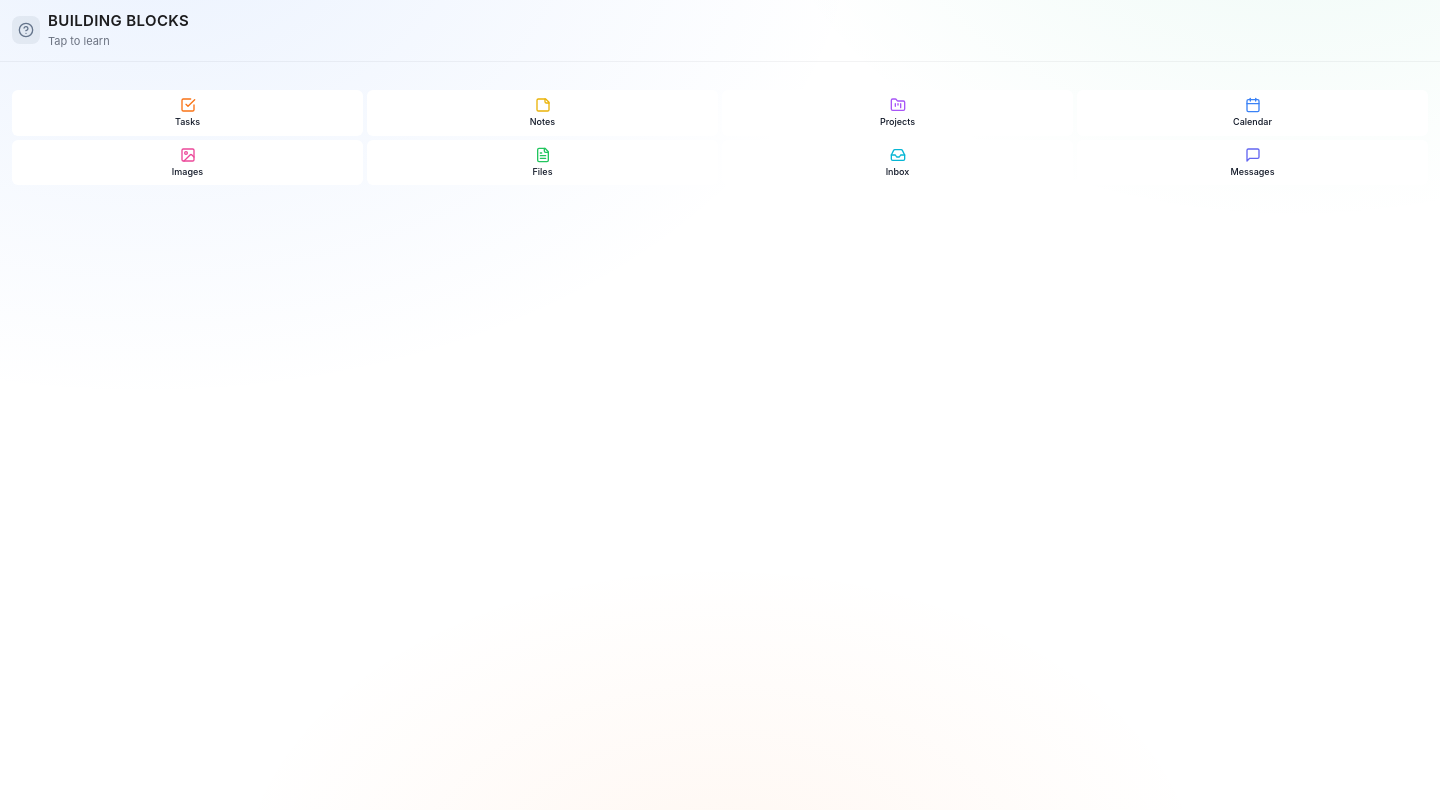
it: FeatureGuideWidget › Feature Selection › shows feature description when feature is clicked
Click the button "Tasks": coordinates (188, 113) x1=12 y1=90 x2=363 y2=136
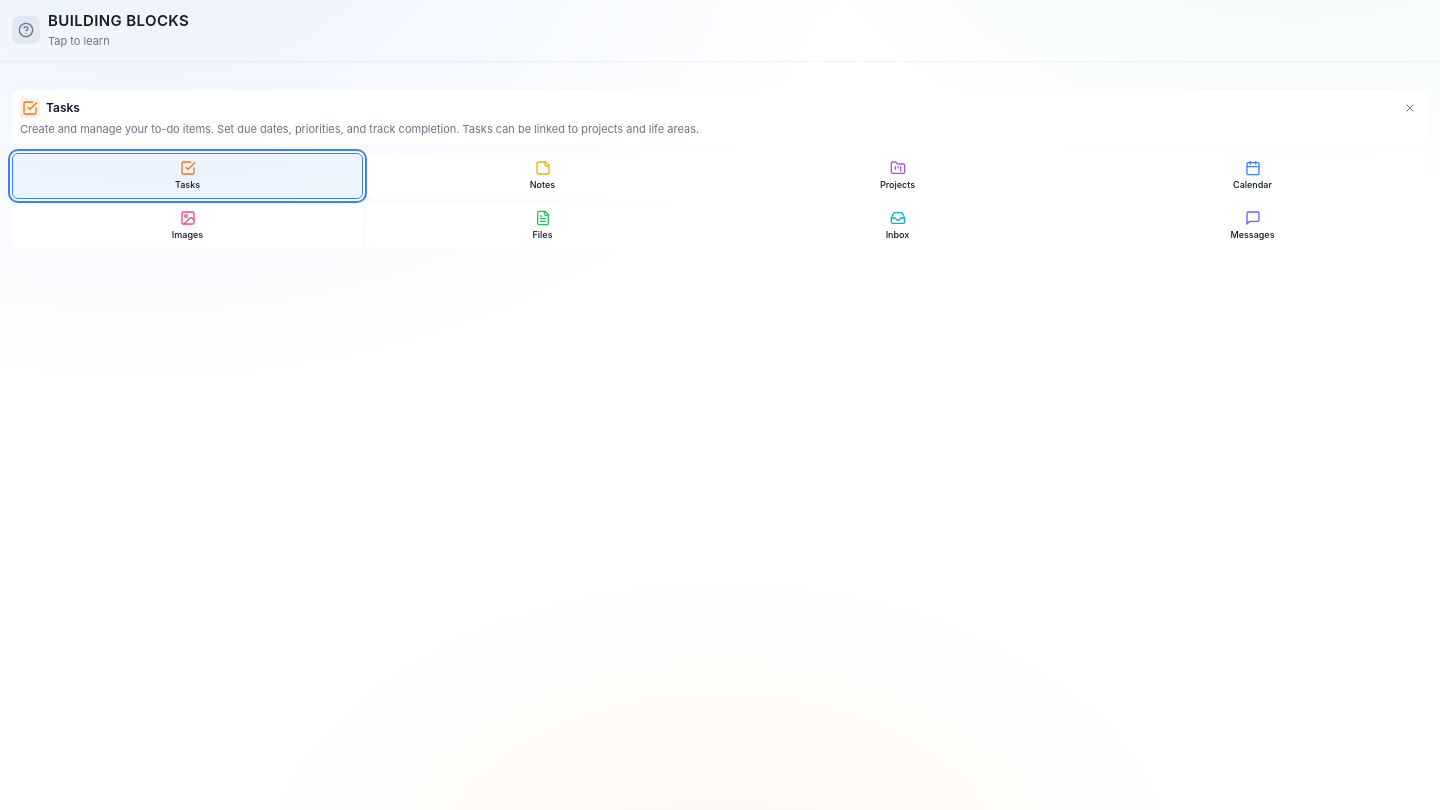
Check: the text "Create and manage your to-do items" is shown, box x1=20 y1=122 x2=699 y2=136
